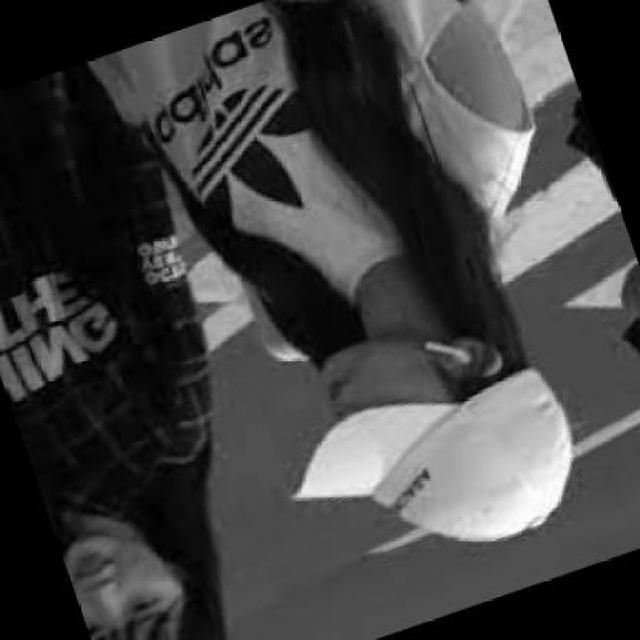earphone: (411, 332, 488, 372)
